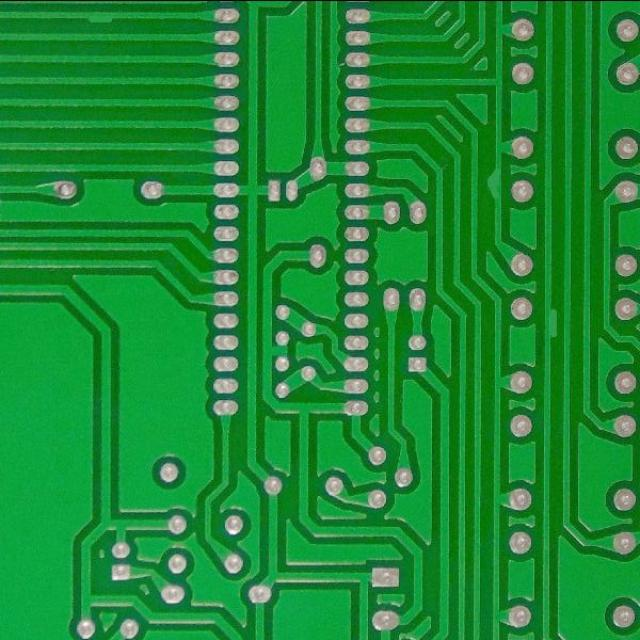Spur: (483, 166, 508, 204), (82, 6, 119, 27), (542, 303, 561, 342)
